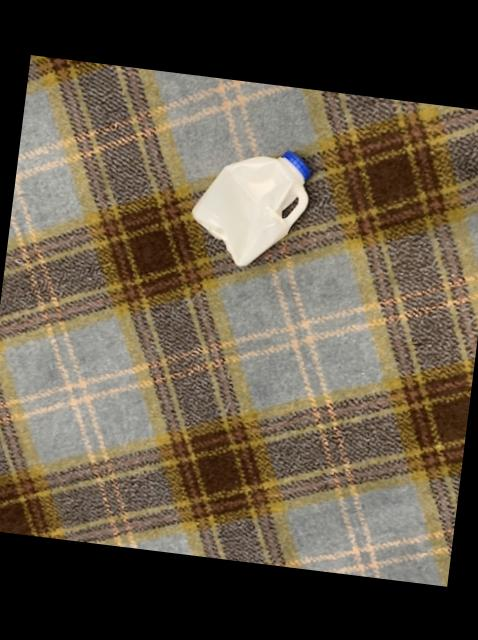plastic: (191, 148, 309, 263)
